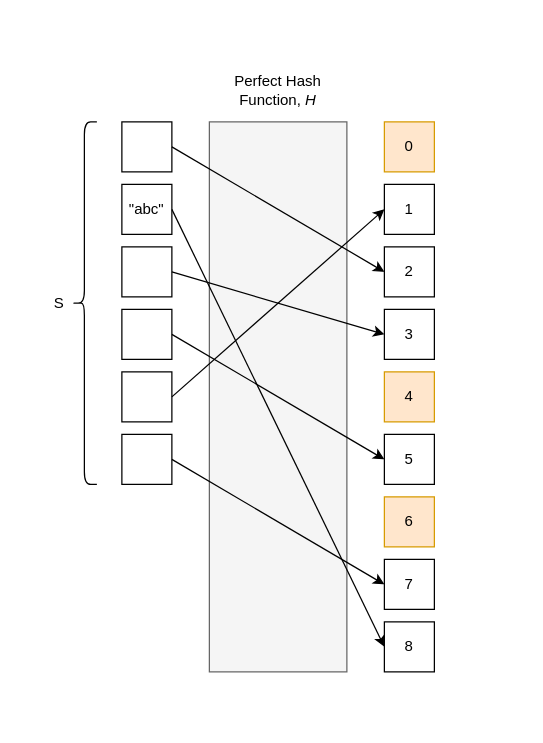
Image size: 543x743. Some labels were removed from this diagram. Each missing label, with the box of its shape:
"aaa": (121, 121, 172, 172)
"ae": (121, 246, 172, 297)
"ein": (121, 433, 172, 484)
"kli": (121, 371, 172, 422)
"ob": (121, 308, 172, 359)
